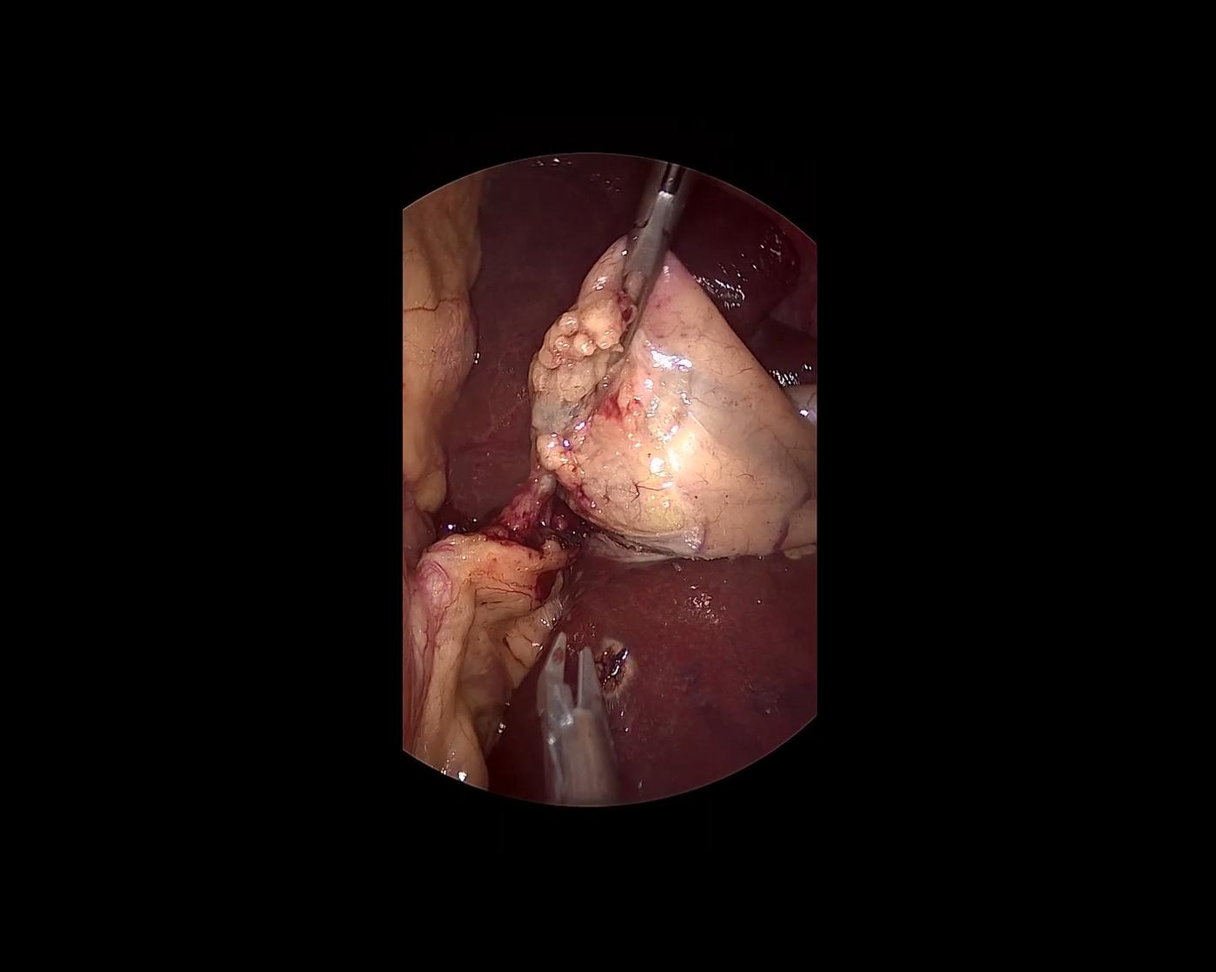Forceps: (581, 157, 704, 363)
Gallbladder: (462, 220, 892, 644)
Liver: (435, 143, 836, 572), (485, 545, 822, 804)
